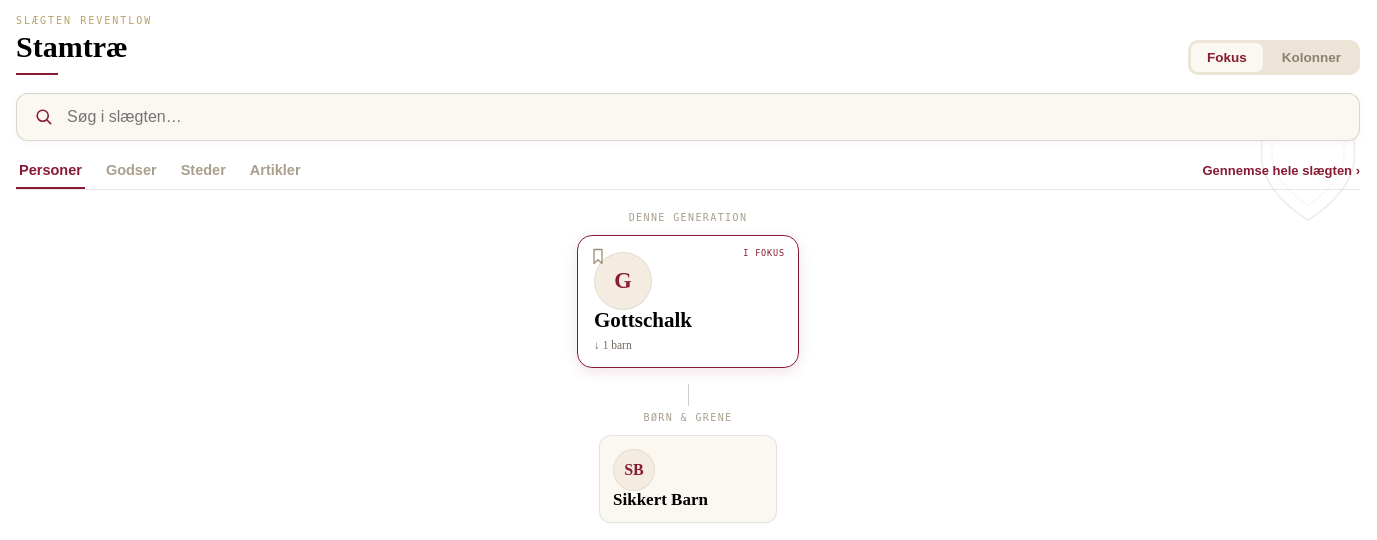
Test: TreeView — nedad-projektion (uforbundne i næste slægtled) › børne-kolonnen viser de sikre børn OG en "uforbundne i dette slægtled"-sektion med neutral ordlyd
Click the text "Kolonner": [1311, 57] box [1282,50,1341,64]
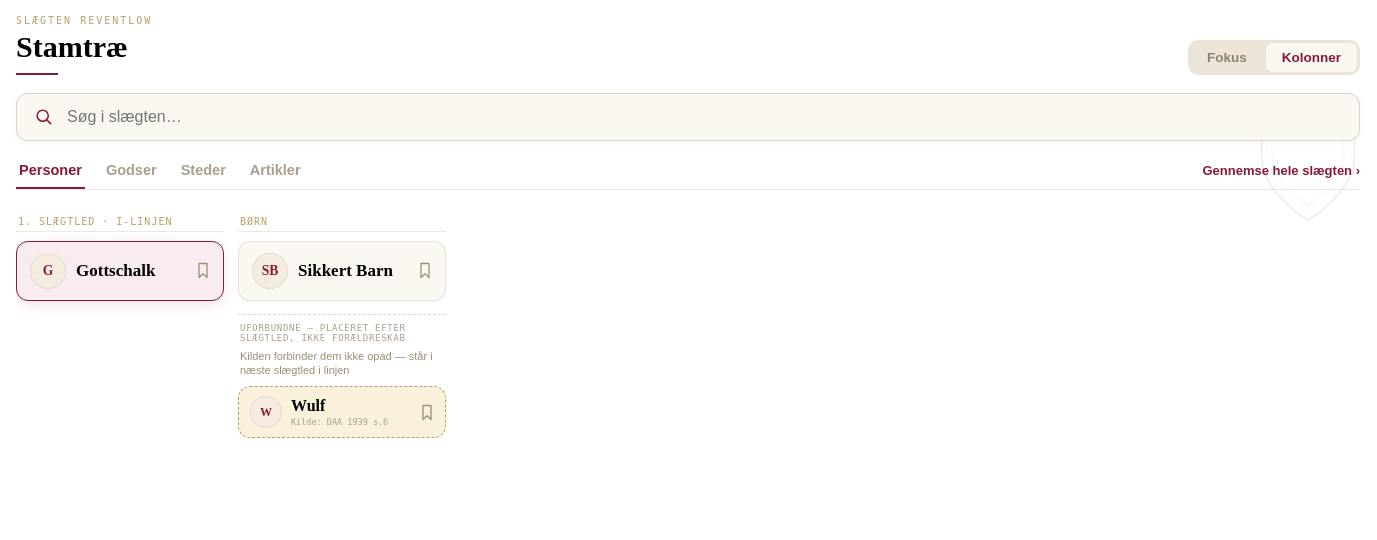
Expected: the link "Sikkert Barn" is shown, [298,260,393,280]
Expected: the text "Uforbundne — placeret efter slægtled, ikke forældreskab" is shown, [240,322,406,342]
Expected: the text "Kilden forbinder dem ikke opad — står i næste slægtled i linjen" is shown, [238,348,446,377]
